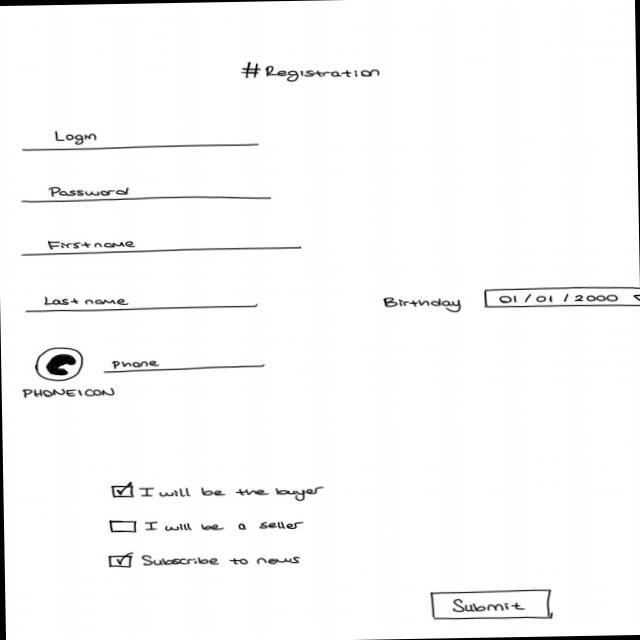button: (428, 586, 554, 622)
checkbox: (108, 476, 326, 504), (107, 514, 305, 535), (106, 548, 302, 568)
icon-button: (34, 345, 85, 381)
input: (19, 232, 304, 258), (19, 124, 260, 152), (22, 288, 260, 315), (18, 181, 273, 204), (101, 354, 265, 374)
label: (238, 58, 382, 84), (380, 292, 464, 314), (18, 384, 117, 402)
select: (482, 284, 640, 310)
